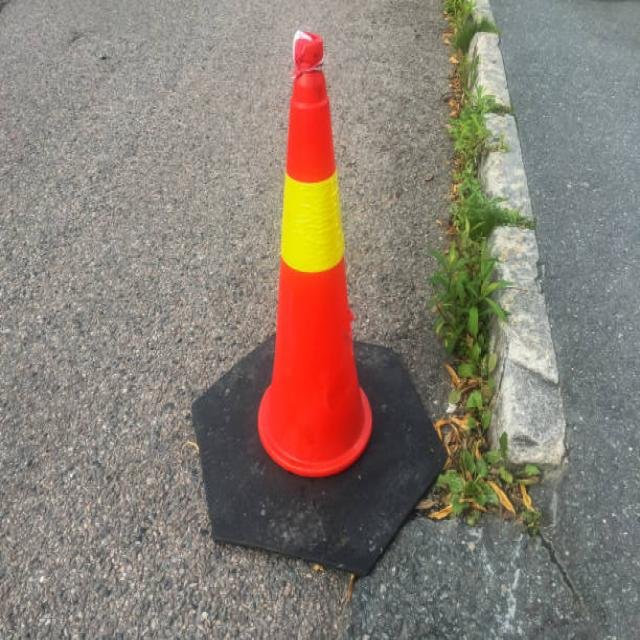Traffic Cone: (150, 5, 455, 610)
